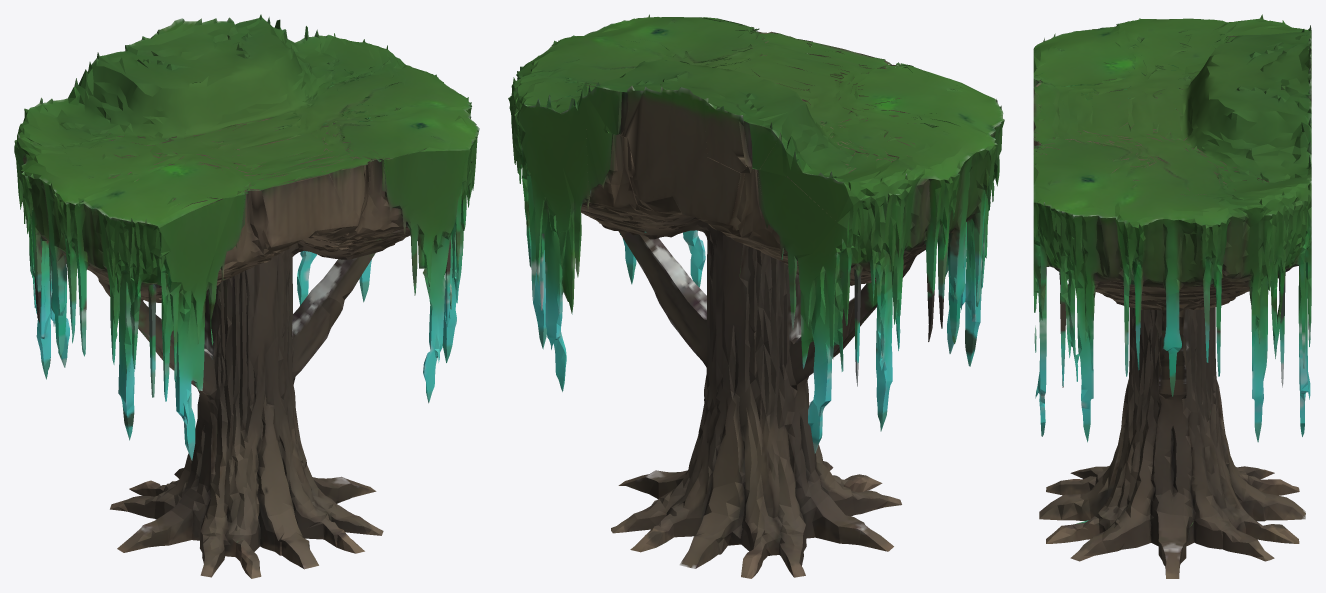
File: Pandora_CanopyPad.glb
The picture shows the model from 3 angles, left to right: view 1: azimuth 30°, elevation 25°; view 2: azimuth 150°, elevation 25°; view 3: azimuth 270°, elevation 25°; orthographic projection. The views are drawn at different scales.
Parts seen in each view (by area): view 1: Pandora_CanopyPad_Body; view 2: Pandora_CanopyPad_Body; view 3: Pandora_CanopyPad_Body.
Boxes of the visible parts, <box> form: Pandora_CanopyPad_Body: <box>14,14,479,578</box>; Pandora_CanopyPad_Body: <box>508,14,1004,578</box>; Pandora_CanopyPad_Body: <box>1033,14,1311,578</box>.
Size of the model in its own units: 8.6 by 9 by 4.9.
Materials: 1 (1 with a texture image).
